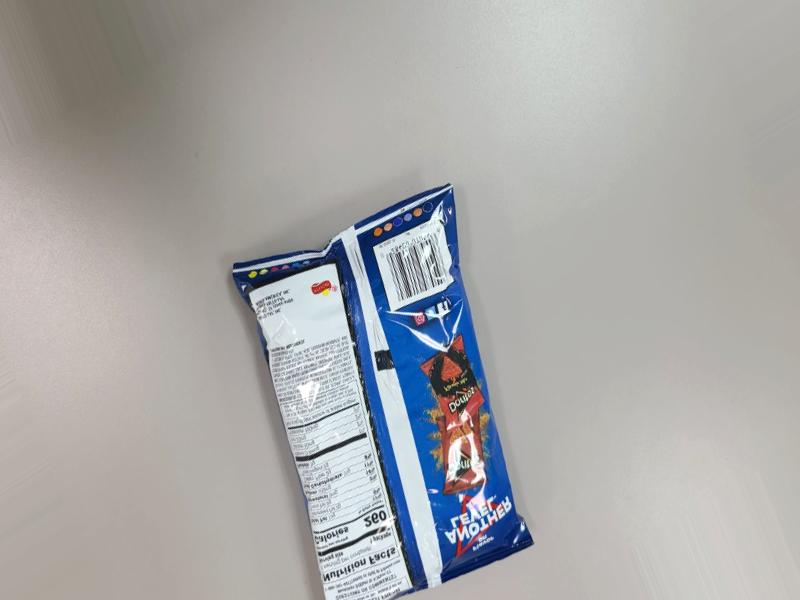doritos: (244, 156, 546, 600)
